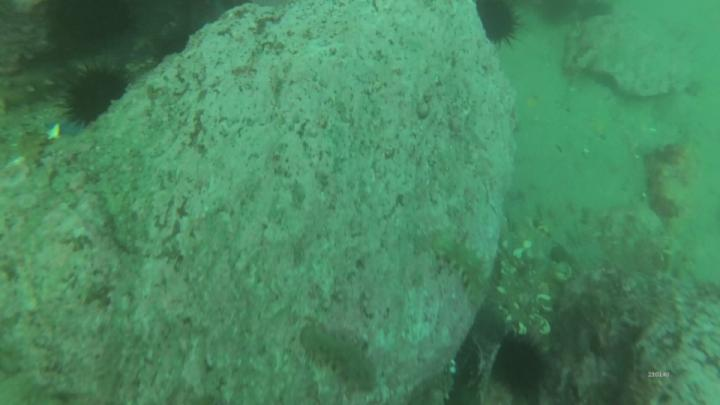echinus: (67, 73, 124, 123), (497, 338, 547, 391), (478, 2, 517, 41)
holothurian: (301, 327, 376, 390), (435, 233, 491, 307)
